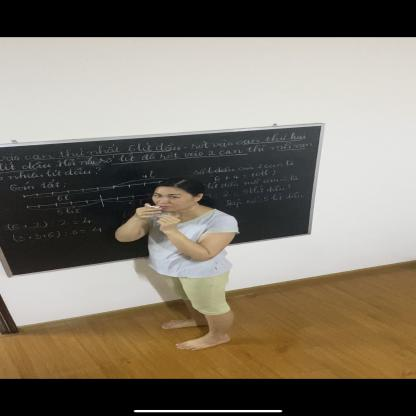cigarette: (144, 204, 160, 209)
person: (116, 176, 241, 352)
